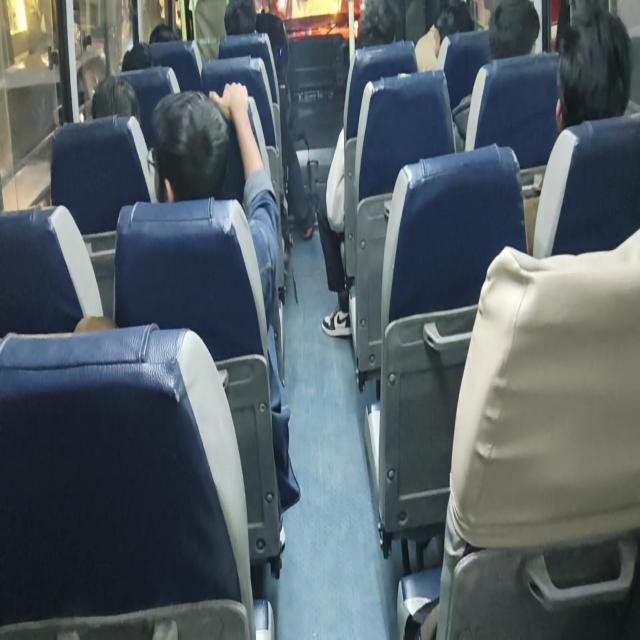person: (75, 80, 300, 549), (317, 0, 407, 338), (521, 4, 633, 252), (222, 0, 316, 239), (452, 0, 541, 151), (555, 4, 632, 132), (151, 88, 230, 202), (414, 0, 474, 72), (487, 0, 540, 59), (91, 74, 141, 124)
